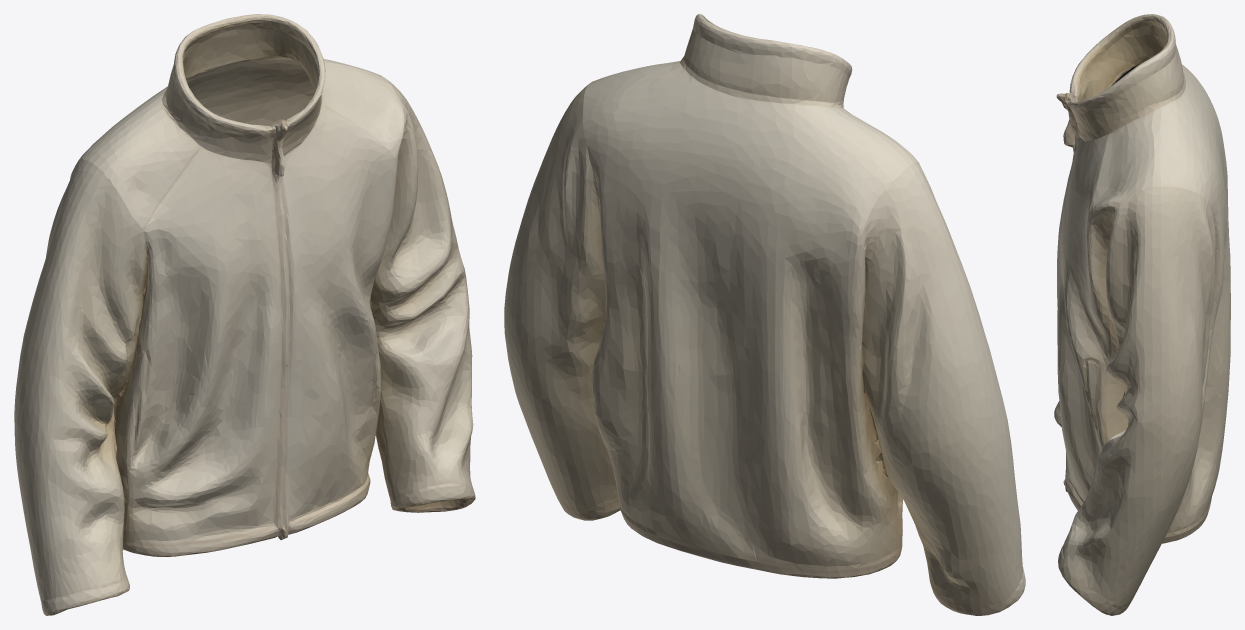
File: Womens_Fleece_Jacket.glb
3 renders of one model, left to right at view 1: azimuth 30°, elevation 25°; view 2: azimuth 150°, elevation 25°; view 3: azimuth 270°, elevation 25°, orthographic. The views are drawn at different scales.
Visible parts, largest first — view 1: world; view 2: world; view 3: world.
Part boxes in pixels (<box>): world: <box>14,14,475,615</box>; world: <box>504,14,1025,615</box>; world: <box>1054,14,1230,615</box>.
Size of the model in its own units: 0.9042 by 0.9996 by 0.3235.
1 material, 1 textured.
